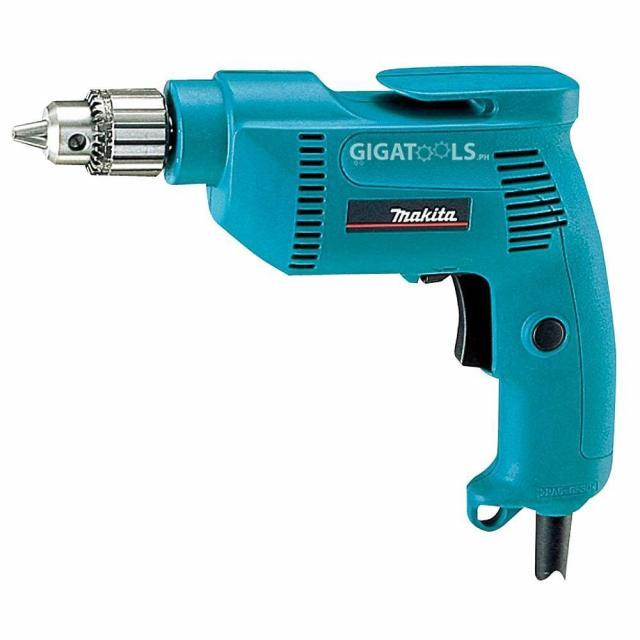drill: (12, 65, 618, 582)
